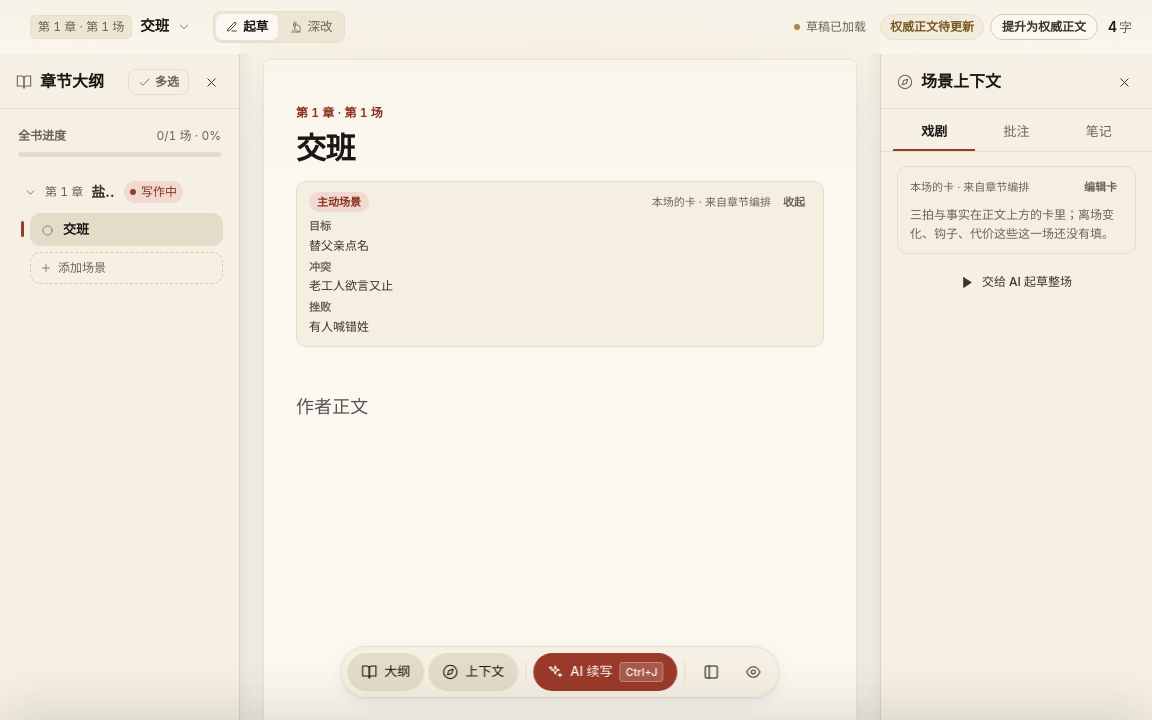
Test case: WriterRoom canonical 内容风险复核接缝 › 首次 409 打开逐项确认；作者勾选后仅携 exact code 重试
Click the button with class "wr-canonical-promote": (1044, 27) 990,14 -> 1098,40
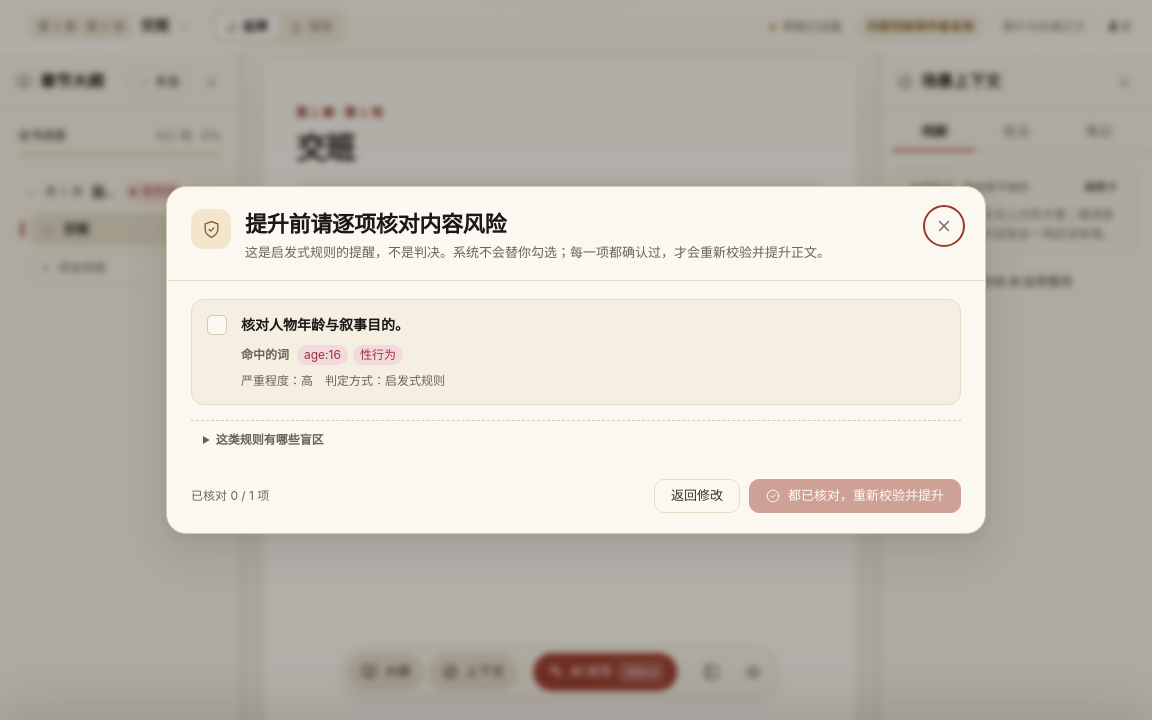
Expected: the dialog with class "wr-safety-dialog" is shown, 166,186 -> 986,534
Expected: the dialog with class "wr-safety-dialog" shows "age:16", 304,346 -> 341,362
Expected: the button with test id "content-safety-confirm" is disabled, 749,478 -> 961,512
Click the checkbox labelled "核对人物年龄与叙事目的。 命中的词 age:16 性行为 严重程度：高 判定方式：启发式规则": (325, 326) 191,300 -> 961,405
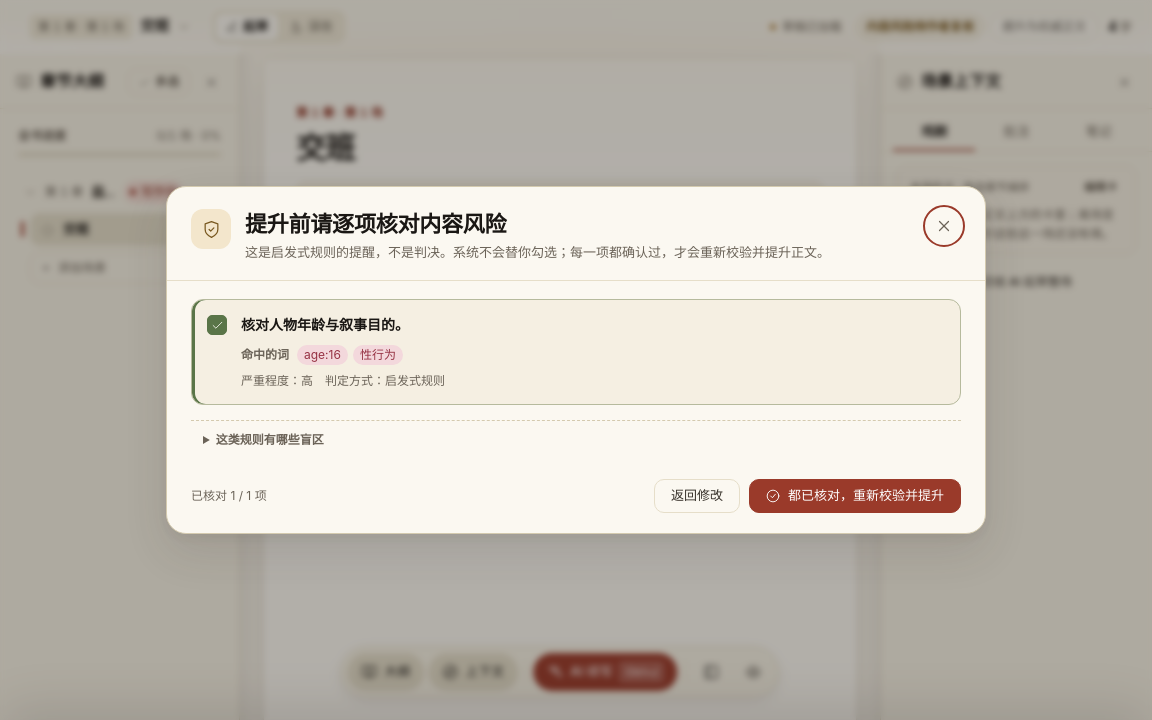
Expected: the button with test id "content-safety-confirm" is enabled
Click the button with test id "content-safety-confirm": (855, 496) 749,478 -> 961,512
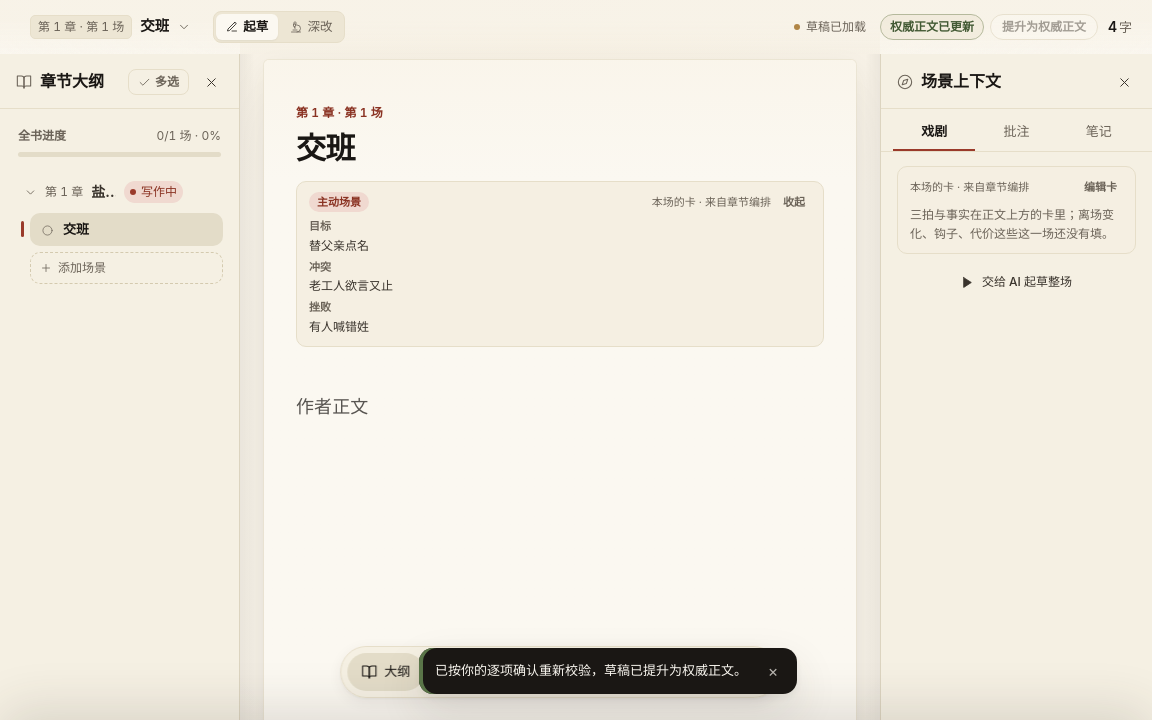
Expected: the dialog with class "wr-safety-dialog" is gone
Expected: the message with test id "canonical-status" reads "权威正文已更新", 890,19 -> 974,34
